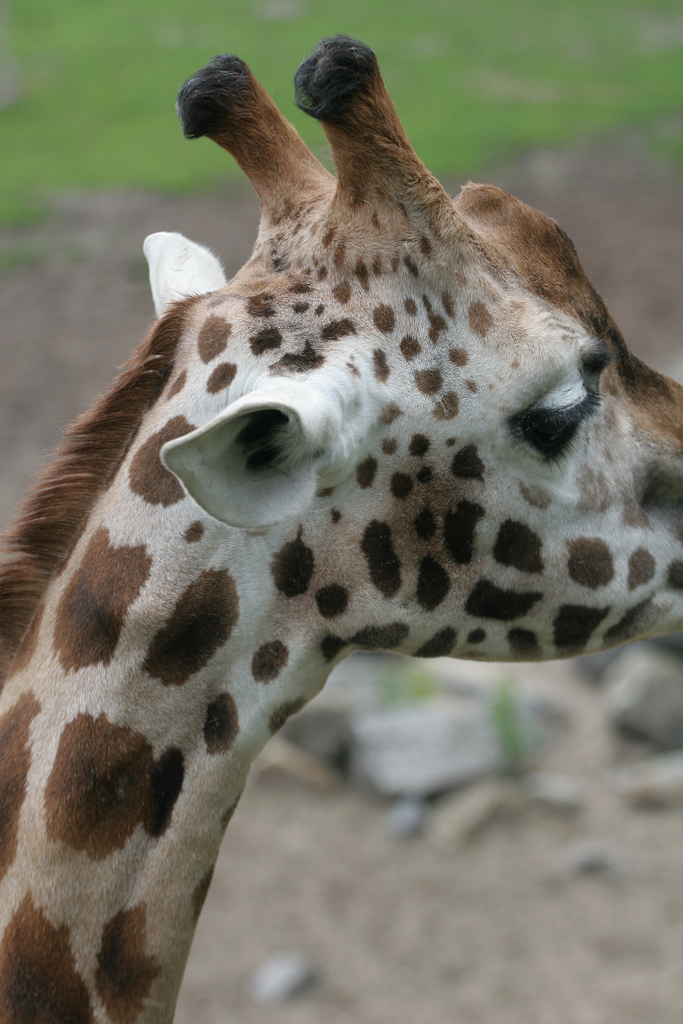giraffe: (64, 27, 678, 890)
